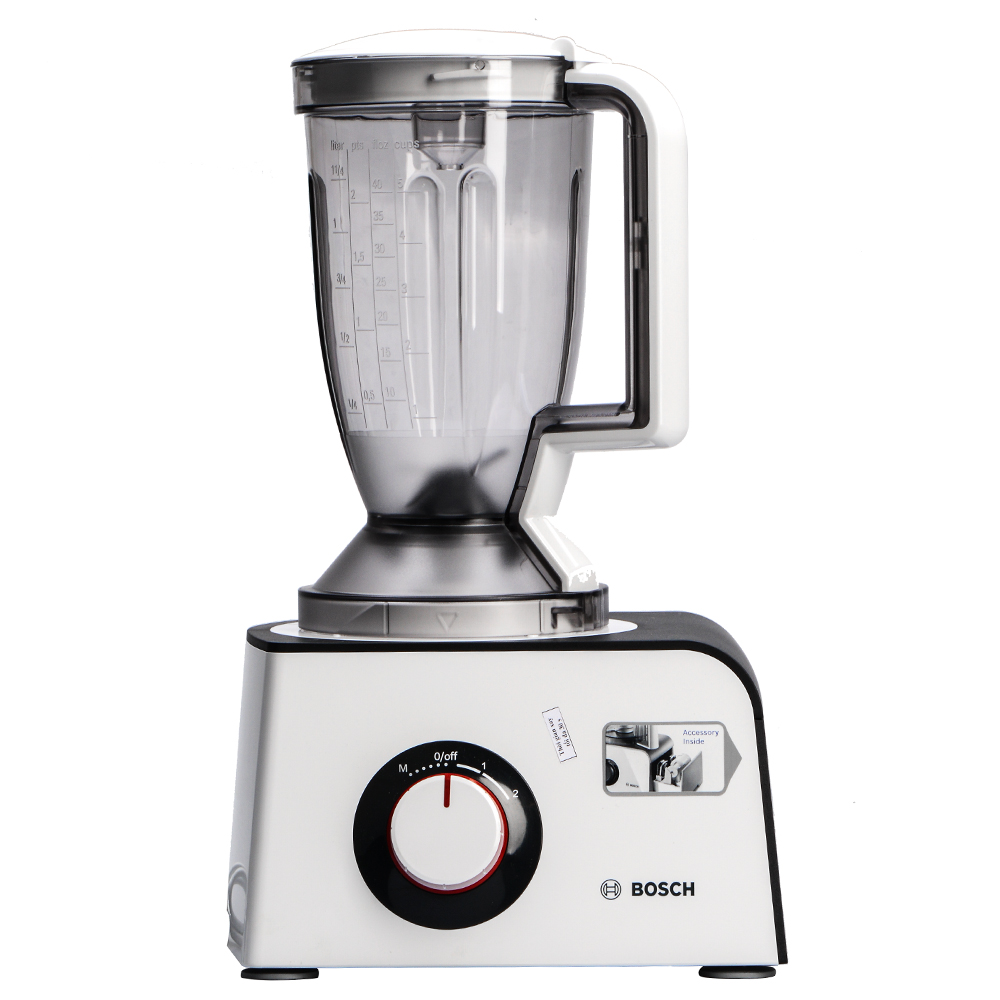Bosch: (625, 870, 701, 903)
